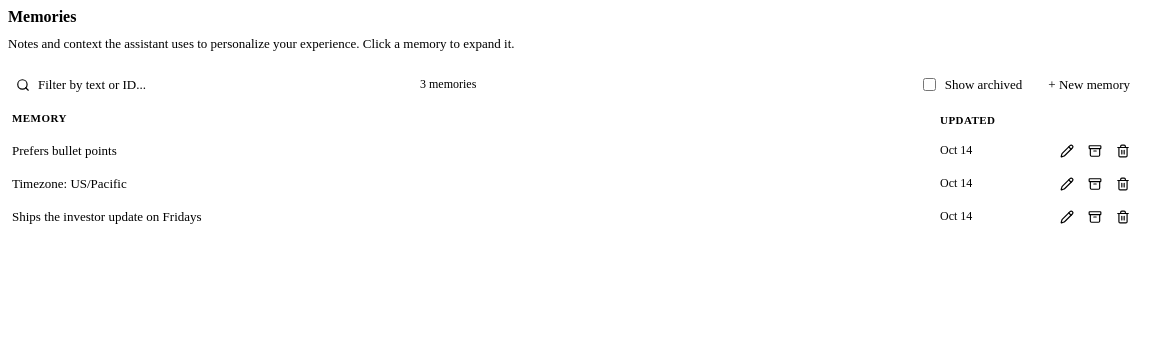
Scenario: MemoriesSection › edits in the row, saving with Ctrl+Enter and cancelling with Escape
Expected: the text "Prefers bullet points" is shown, [12,143,117,158]
Click the 1st button named "Edit" at x=1067, y=151, box [1054,138,1080,164]
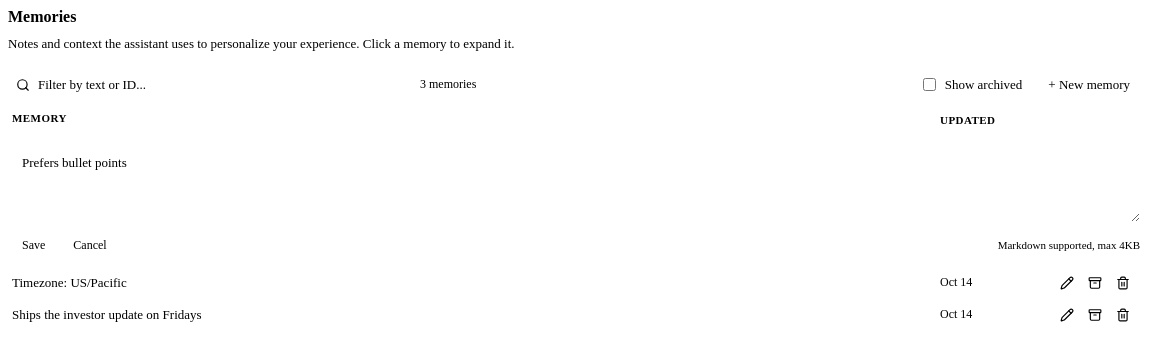
Expected: the text box named "Edit memory" holds "Prefers bullet points"
Press Escape in the text box named "Edit memory", box [12,143,1140,222]
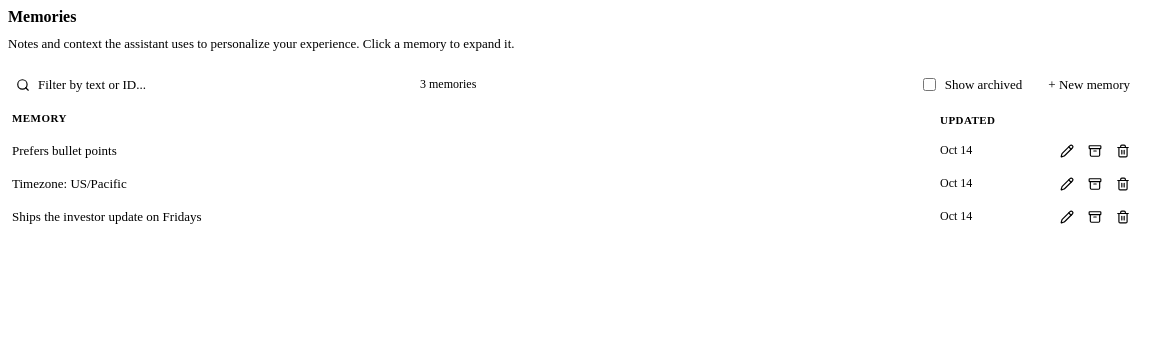
Click the 1st button named "Edit" at x=1067, y=151, box [1054,138,1080,164]
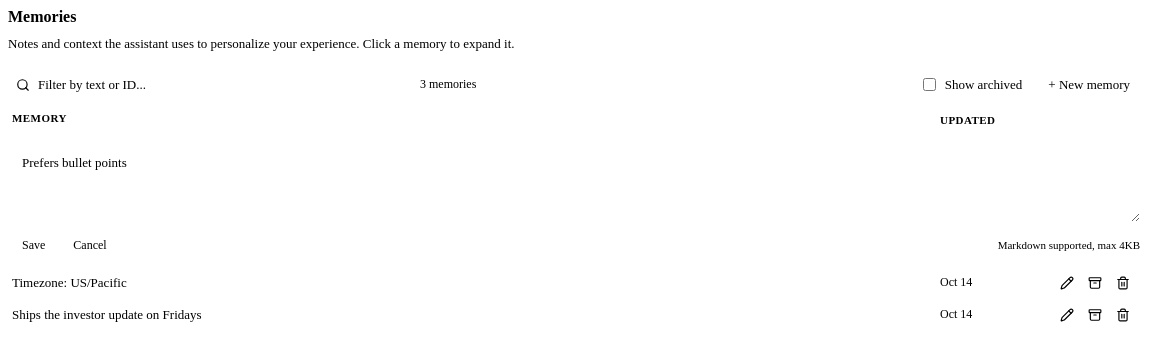
Replace the text in the text box named "Edit memory" with "Prefers short bullet points" at x=576, y=182, box [12,143,1140,222]
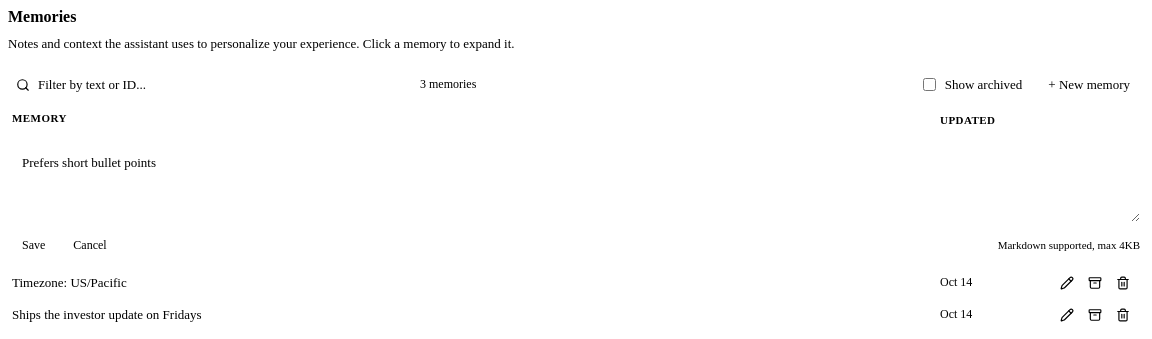
Press Enter in the text box named "Edit memory", box [12,143,1140,222]
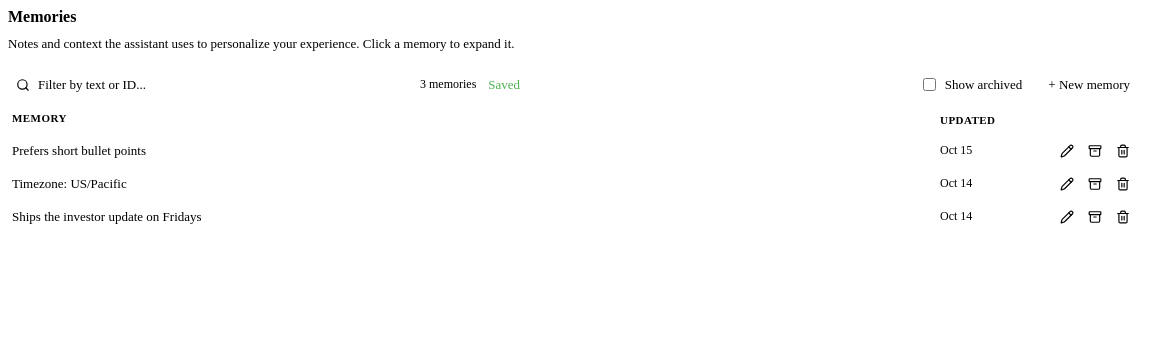
Expected: the text "Prefers short bullet points" is shown, [12,143,146,158]
